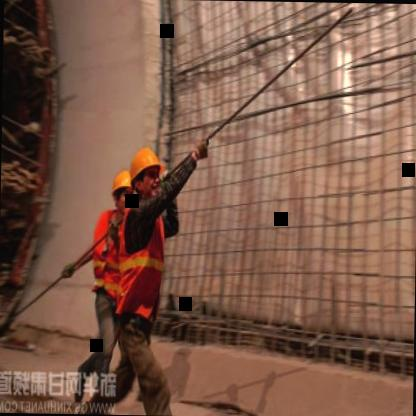helmet: (127, 142, 165, 204), (108, 168, 135, 212)
